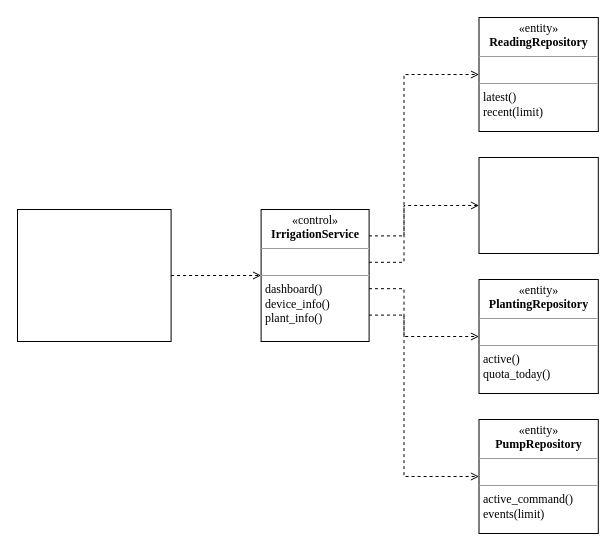
The diagram is 616 pixels wide and 551 high, and some of its shapes have lost their labels. The centre of each missing label's shape, as x and y in pixels:
«boundary» Monitor.jsx, PumpLog.jsx loadDashboard() drawChart() loadEvents(): (93,275)
«entity» DeviceRepository status(): (538,205)
